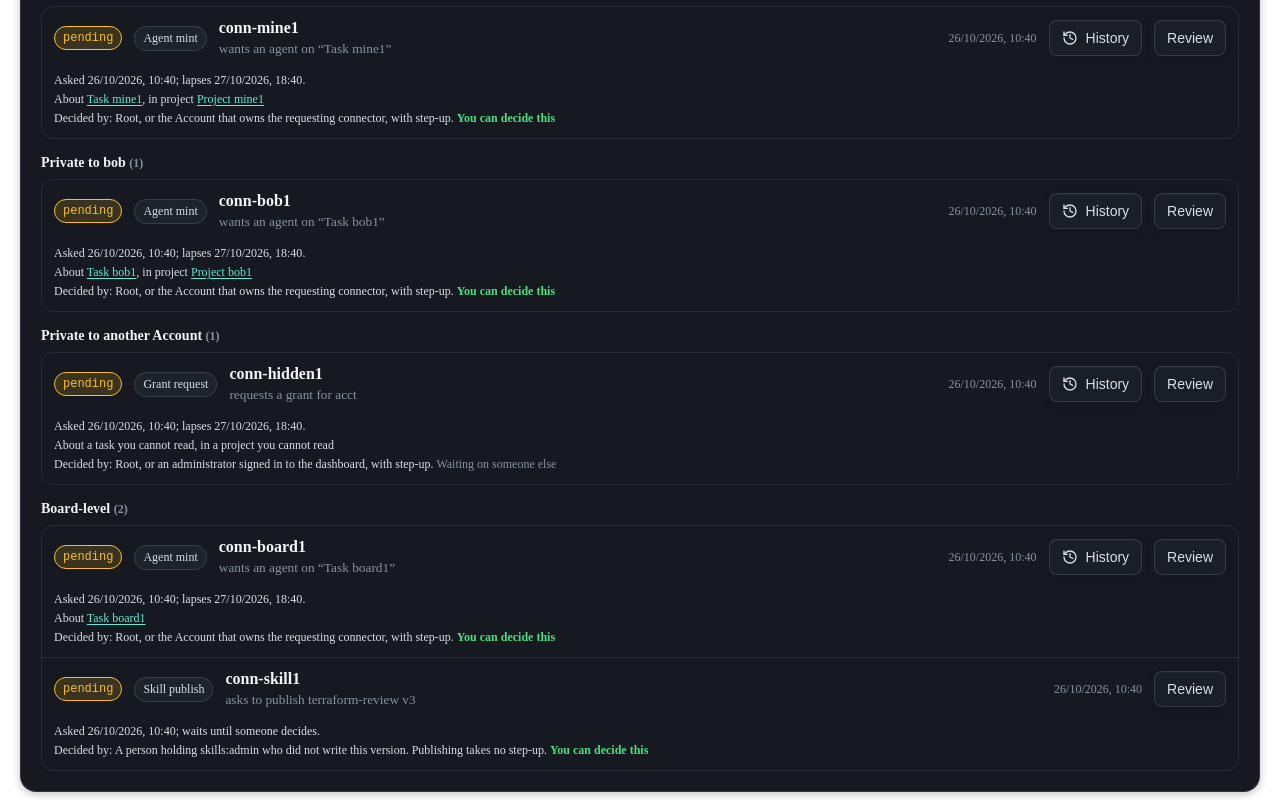
T10: who asked, what, when, about what, who decides › a skill version in review: no History, no Approve or Deny here, and a link to the Skill that decides it
(page scrolled)
Expected: the text "asks to publish terraform-review v3" is shown, [225, 692, 416, 707]
Expected: the text "Skill publish" is shown, [134, 676, 213, 702]
Click the button "Review" in the row of "asks to publish terraform-review v3" at (1190, 689), box [1154, 671, 1226, 707]
(page scrolled)
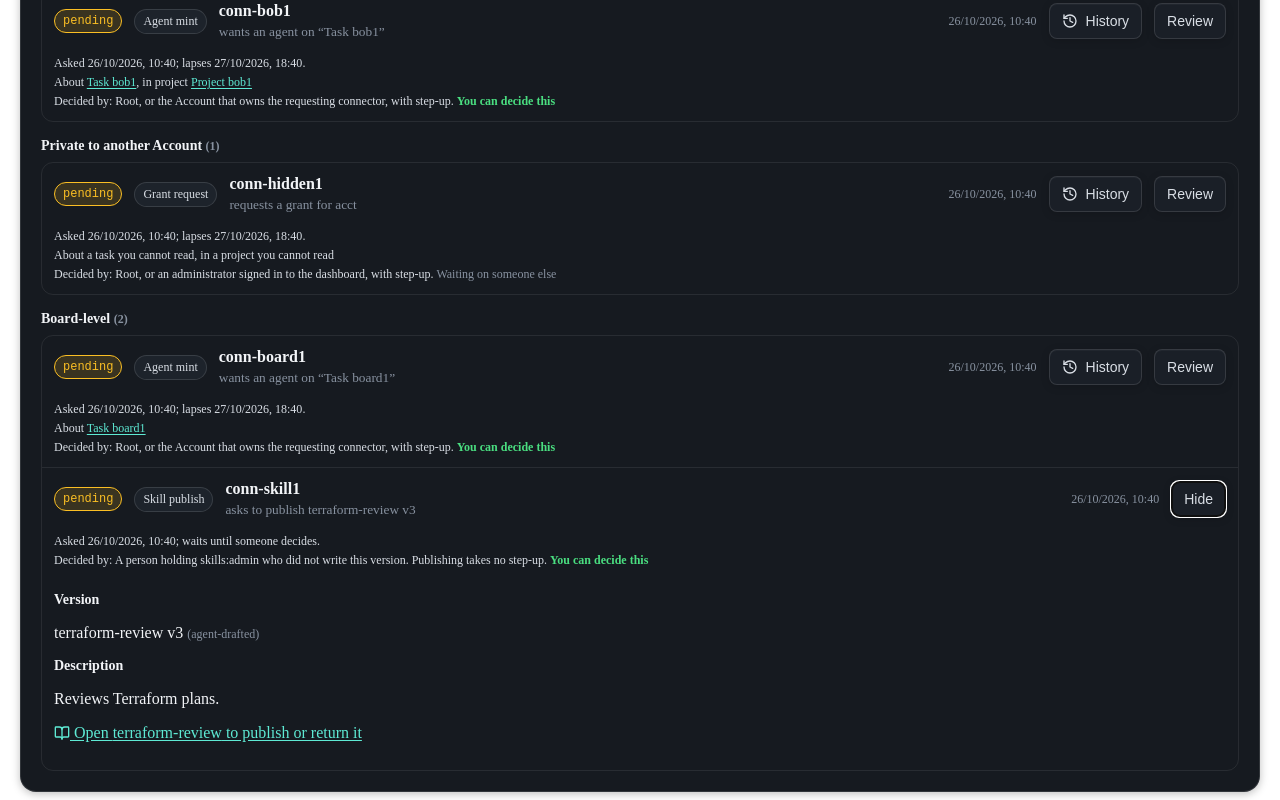
Now the text "Reviews Terraform plans." is shown, box [54, 690, 219, 707]
